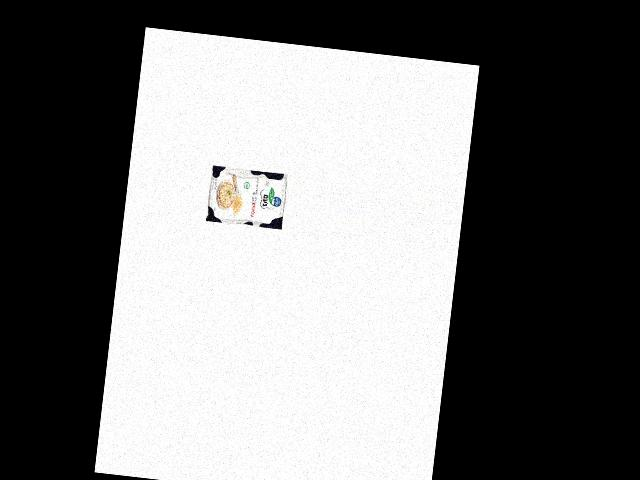cheese: (204, 164, 288, 231)
